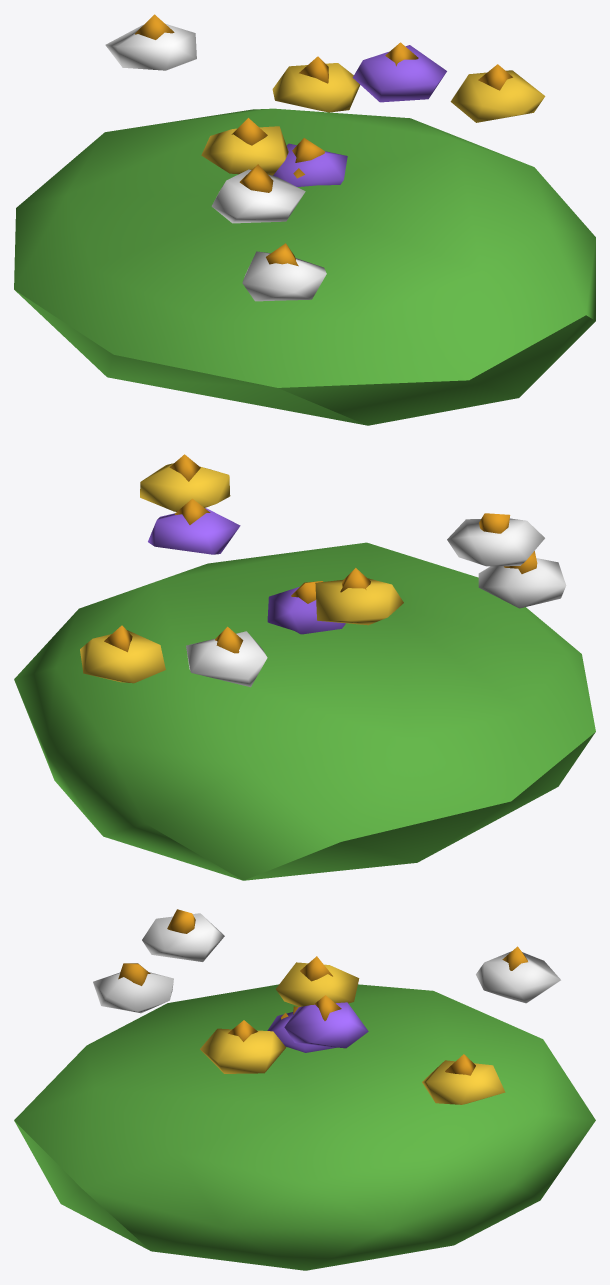
The model's file is vl_flowers_lod.glb.
The picture shows the model from 3 angles, top to bottom: view 1: azimuth 30°, elevation 25°; view 2: azimuth 150°, elevation 25°; view 3: azimuth 270°, elevation 25°; orthographic projection. The views are drawn at different scales.
Visible parts, largest first — view 1: flowers_lod; view 2: flowers_lod; view 3: flowers_lod.
Boxes of the visible parts, left/top/right/bottom form: flowers_lod: left=14, top=14, right=595, bottom=425; flowers_lod: left=14, top=454, right=595, bottom=880; flowers_lod: left=14, top=909, right=595, bottom=1270.
Bounding box in the file's own units: 1.1 × 0.6146 × 1.24.
